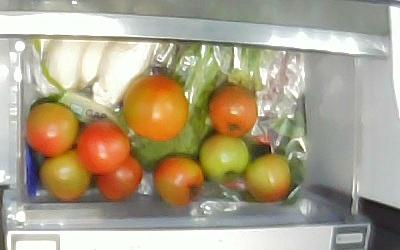tomato: (122, 76, 188, 140), (76, 121, 131, 171), (26, 103, 78, 154), (153, 152, 203, 205), (39, 152, 91, 202), (209, 83, 258, 136), (198, 135, 248, 185), (95, 154, 143, 200), (244, 154, 290, 201)
